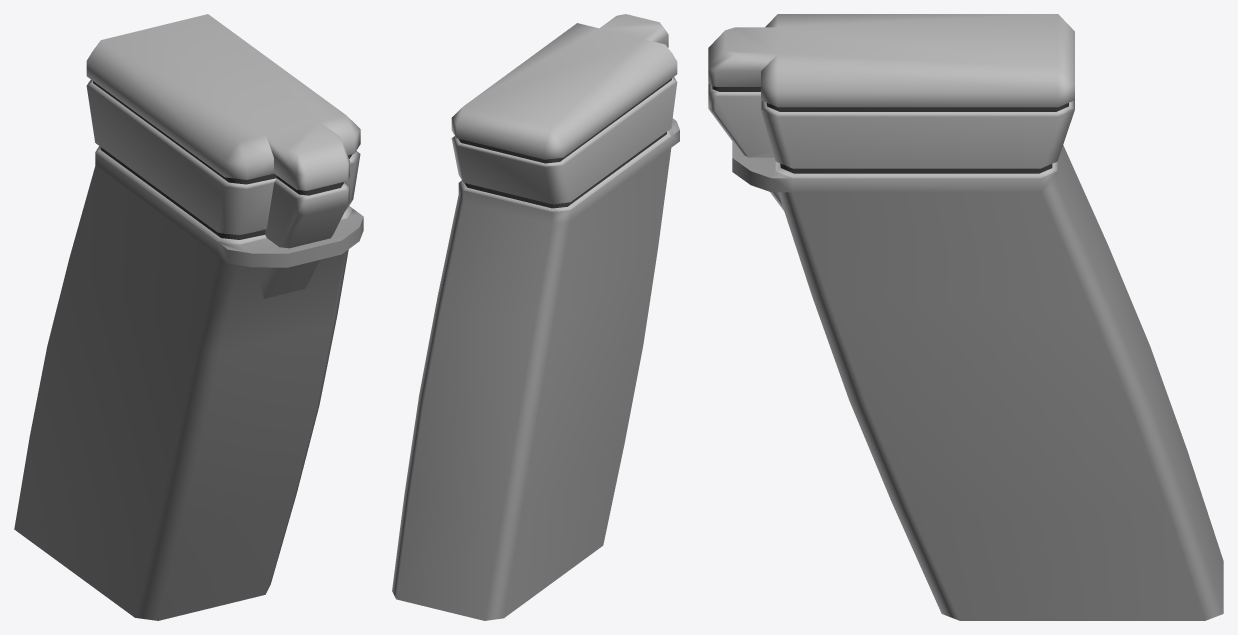
Rendered from space_station_018.fbx.
3 renders of one model, left to right at view 1: azimuth 30°, elevation 25°; view 2: azimuth 150°, elevation 25°; view 3: azimuth 270°, elevation 25°, orthographic. The views are drawn at different scales.
Visible parts, largest first — view 1: space_station_018; view 2: space_station_018; view 3: space_station_018.
Part boxes in pixels (left/top/right/bottom): space_station_018: left=14, top=14, right=363, bottom=620; space_station_018: left=392, top=14, right=679, bottom=620; space_station_018: left=708, top=14, right=1223, bottom=620.
Size of the model in its own units: 832 by 2567 by 3006.
